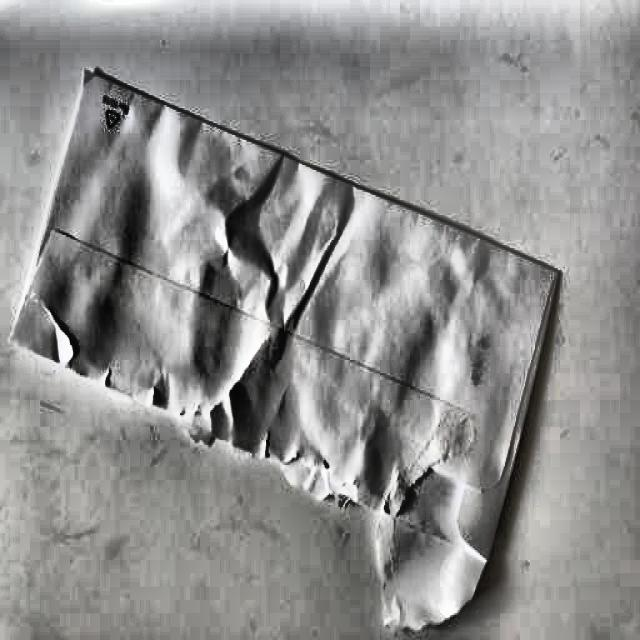paper: (6, 69, 562, 634)
